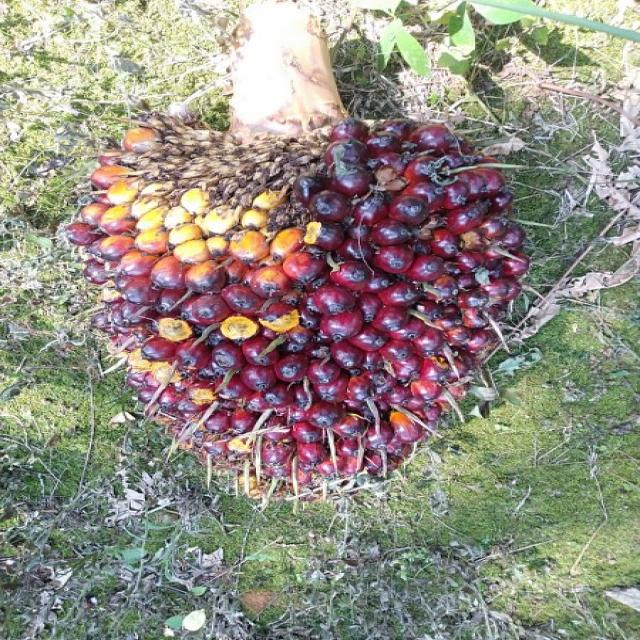fraksi 1: (68, 123, 528, 493)
